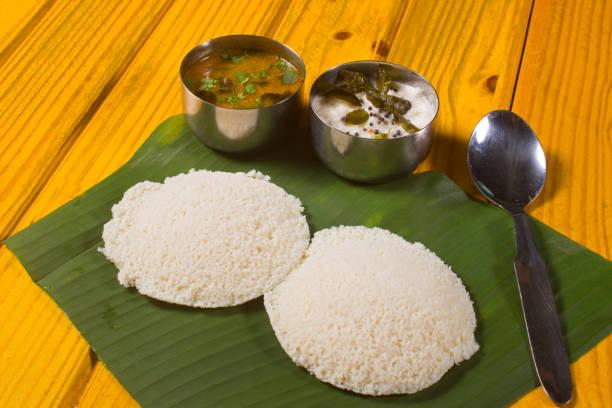coconut chutney: (313, 64, 437, 153)
idli: (107, 174, 483, 396)
sambhar: (191, 48, 294, 111)
